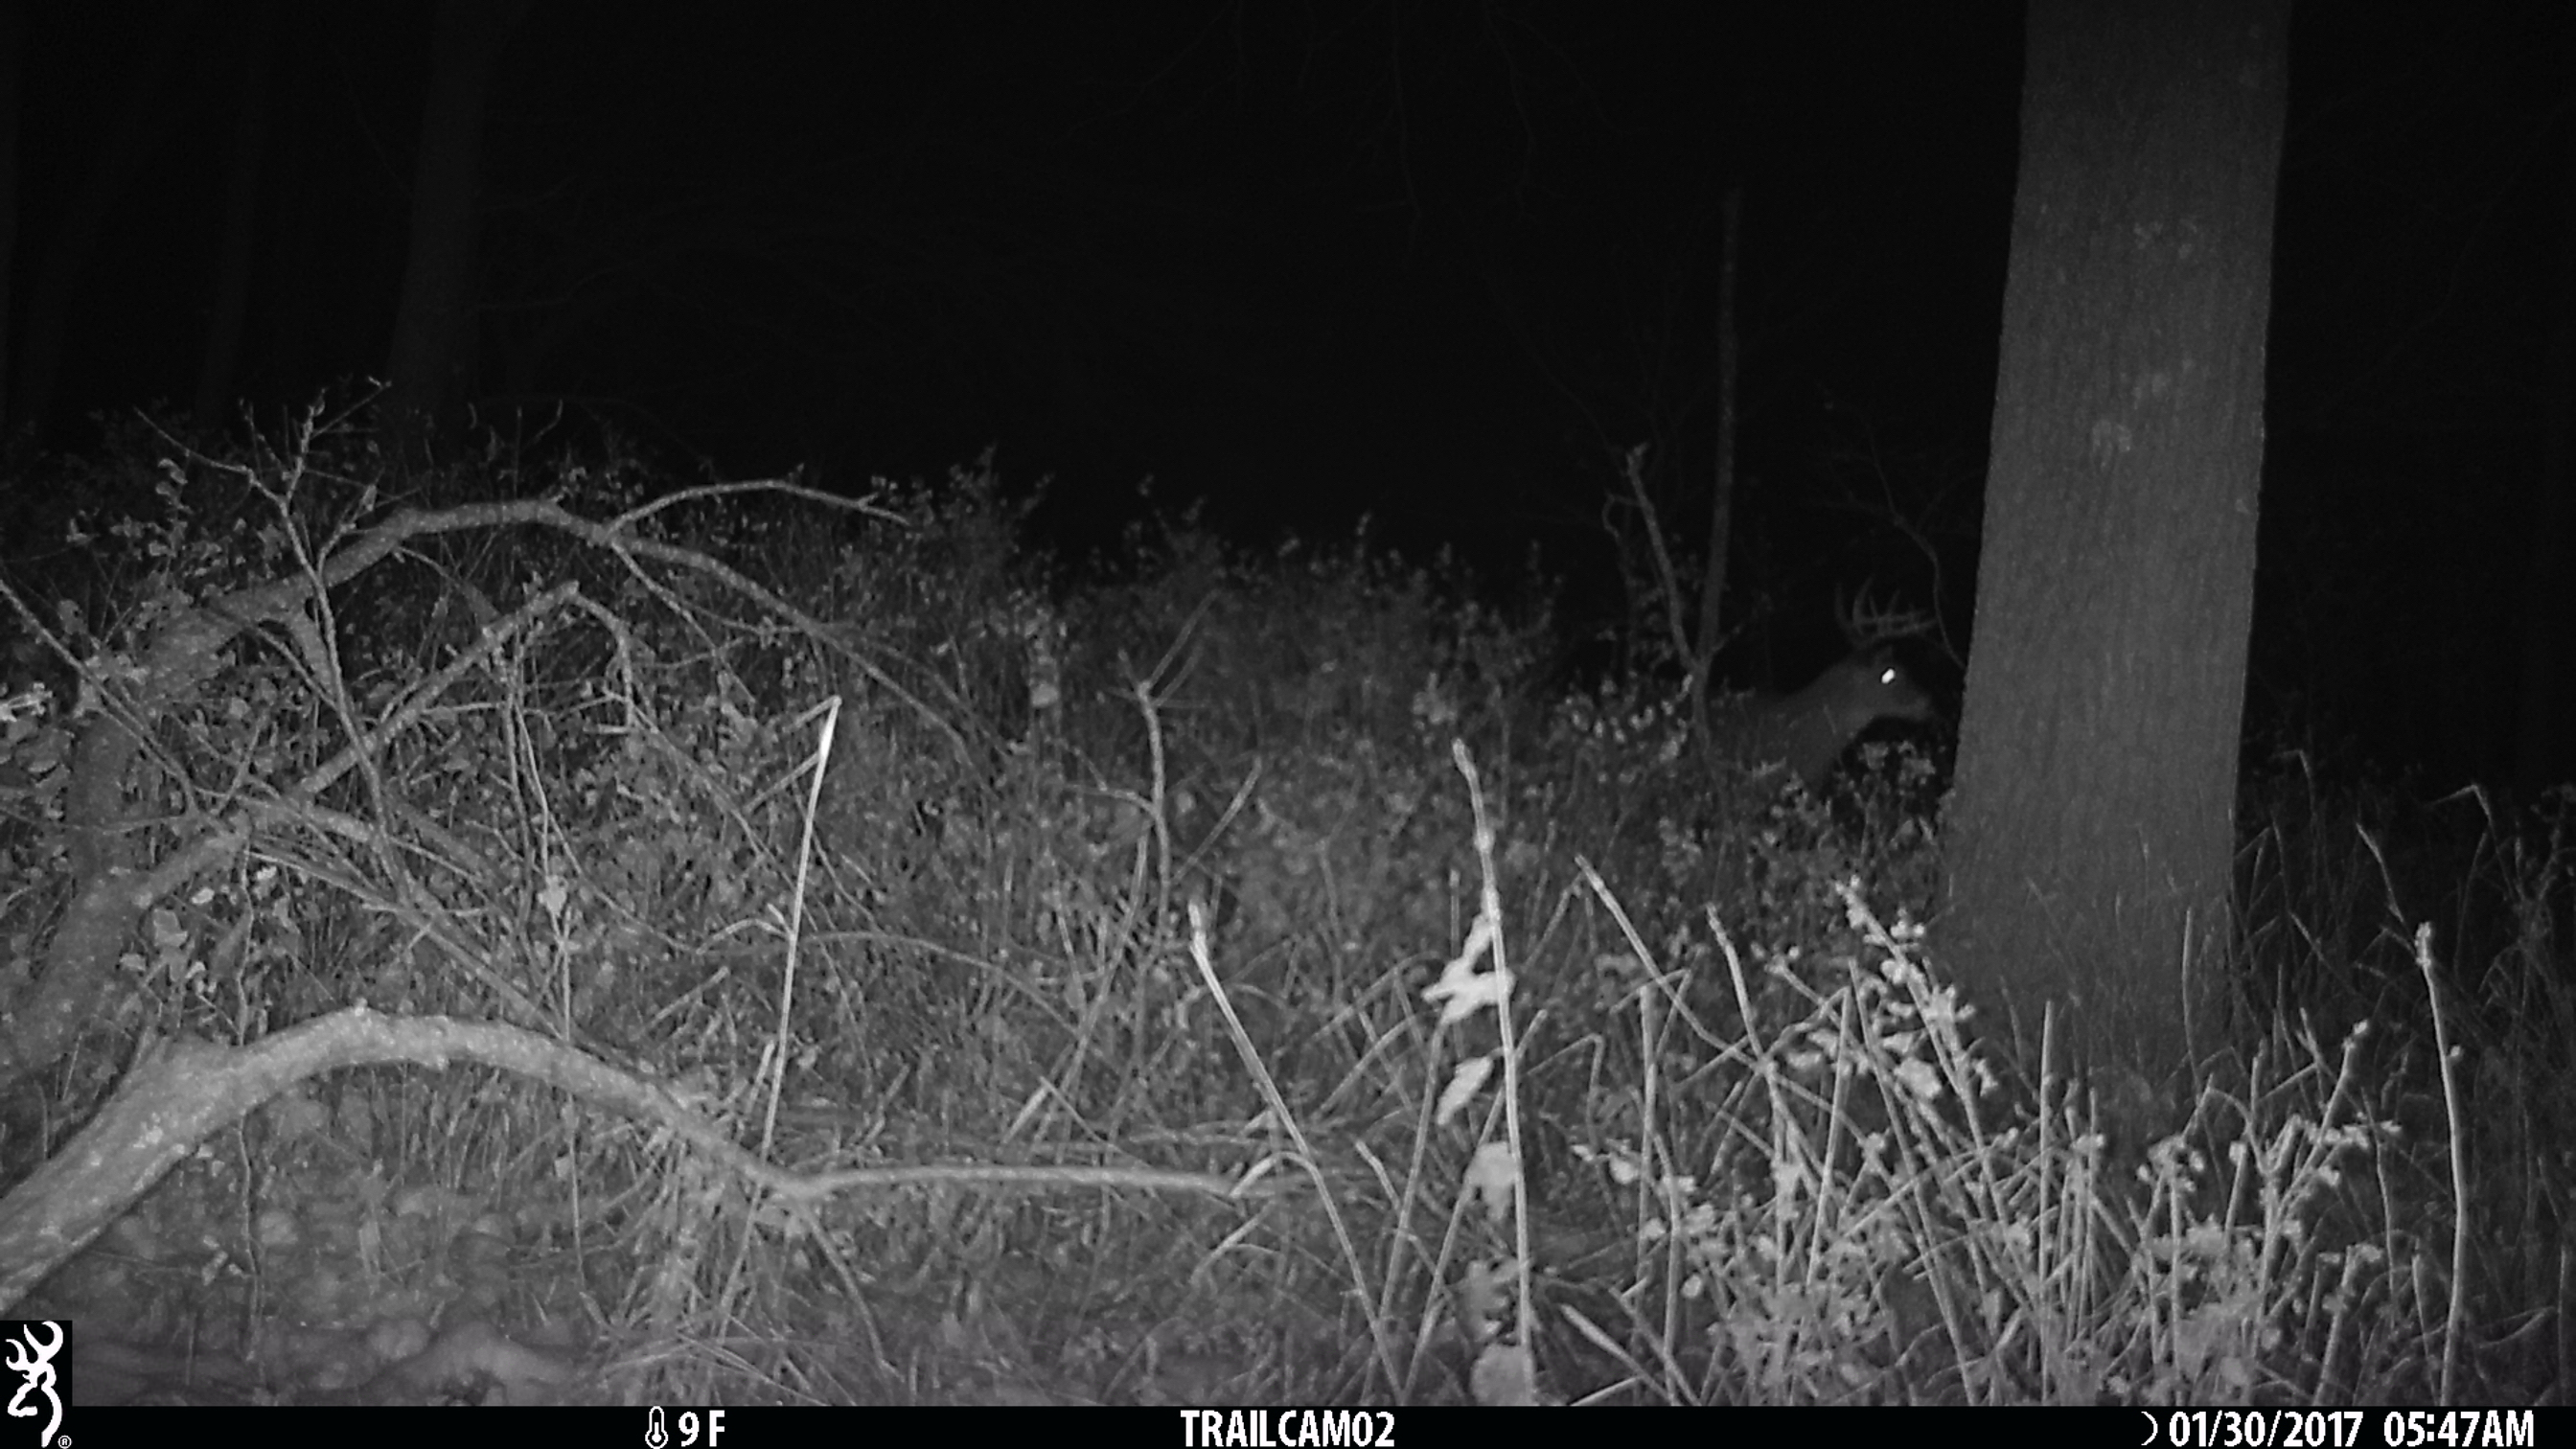DeerBuck: (1713, 581, 1938, 797)
DeerBuckHead: (1828, 581, 1939, 741)
